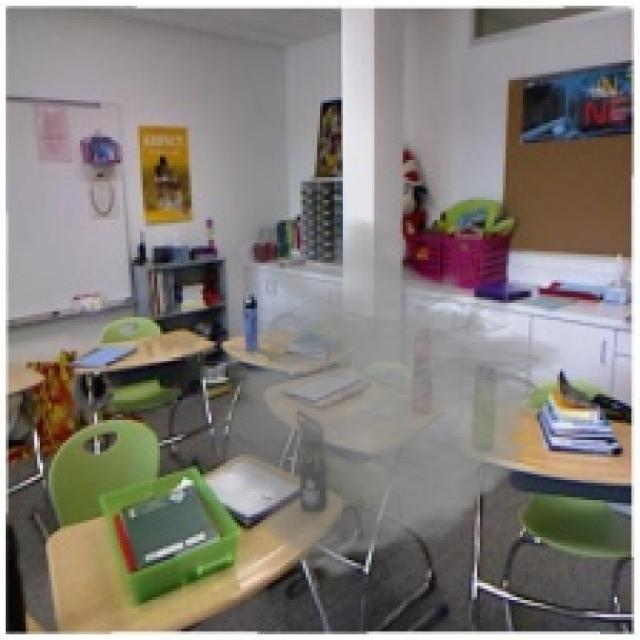Smoke: (172, 217, 577, 580)
